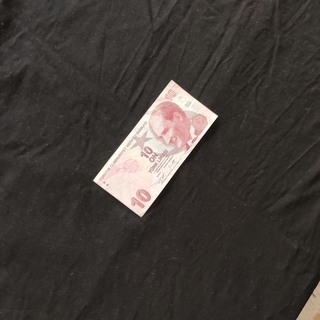10TLFront: (91, 77, 219, 218)
